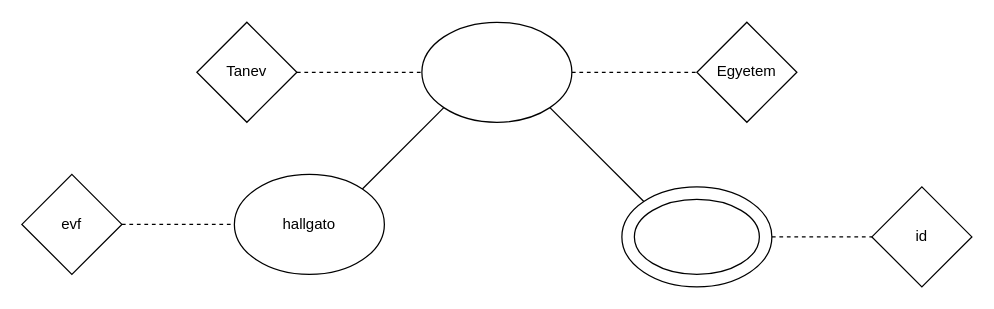
This 994x309 diagram has some shape labels left out. Here are the shapes that lost their labels. From the top down, the box of each, then its label:
(421, 21, 572, 122): Kurzusfelvetel
(633, 198, 759, 274): kurzusok
